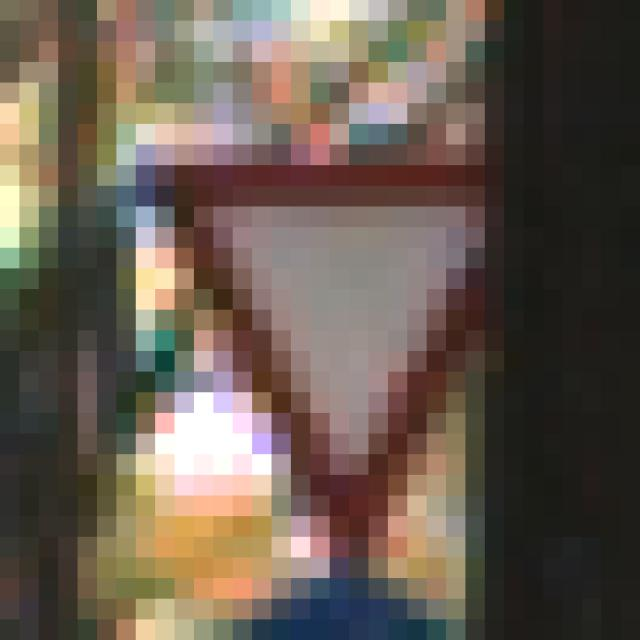Give Way: (117, 104, 525, 538)
